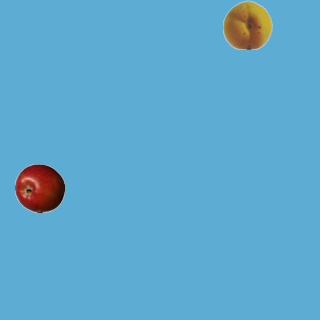Apple Braeburn: (14, 163, 64, 213)
Peach 2: (222, 0, 272, 49)
